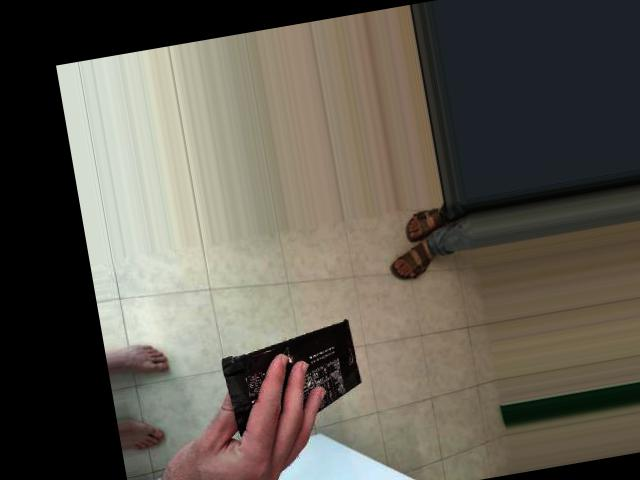chocolate: (252, 198, 396, 380)
